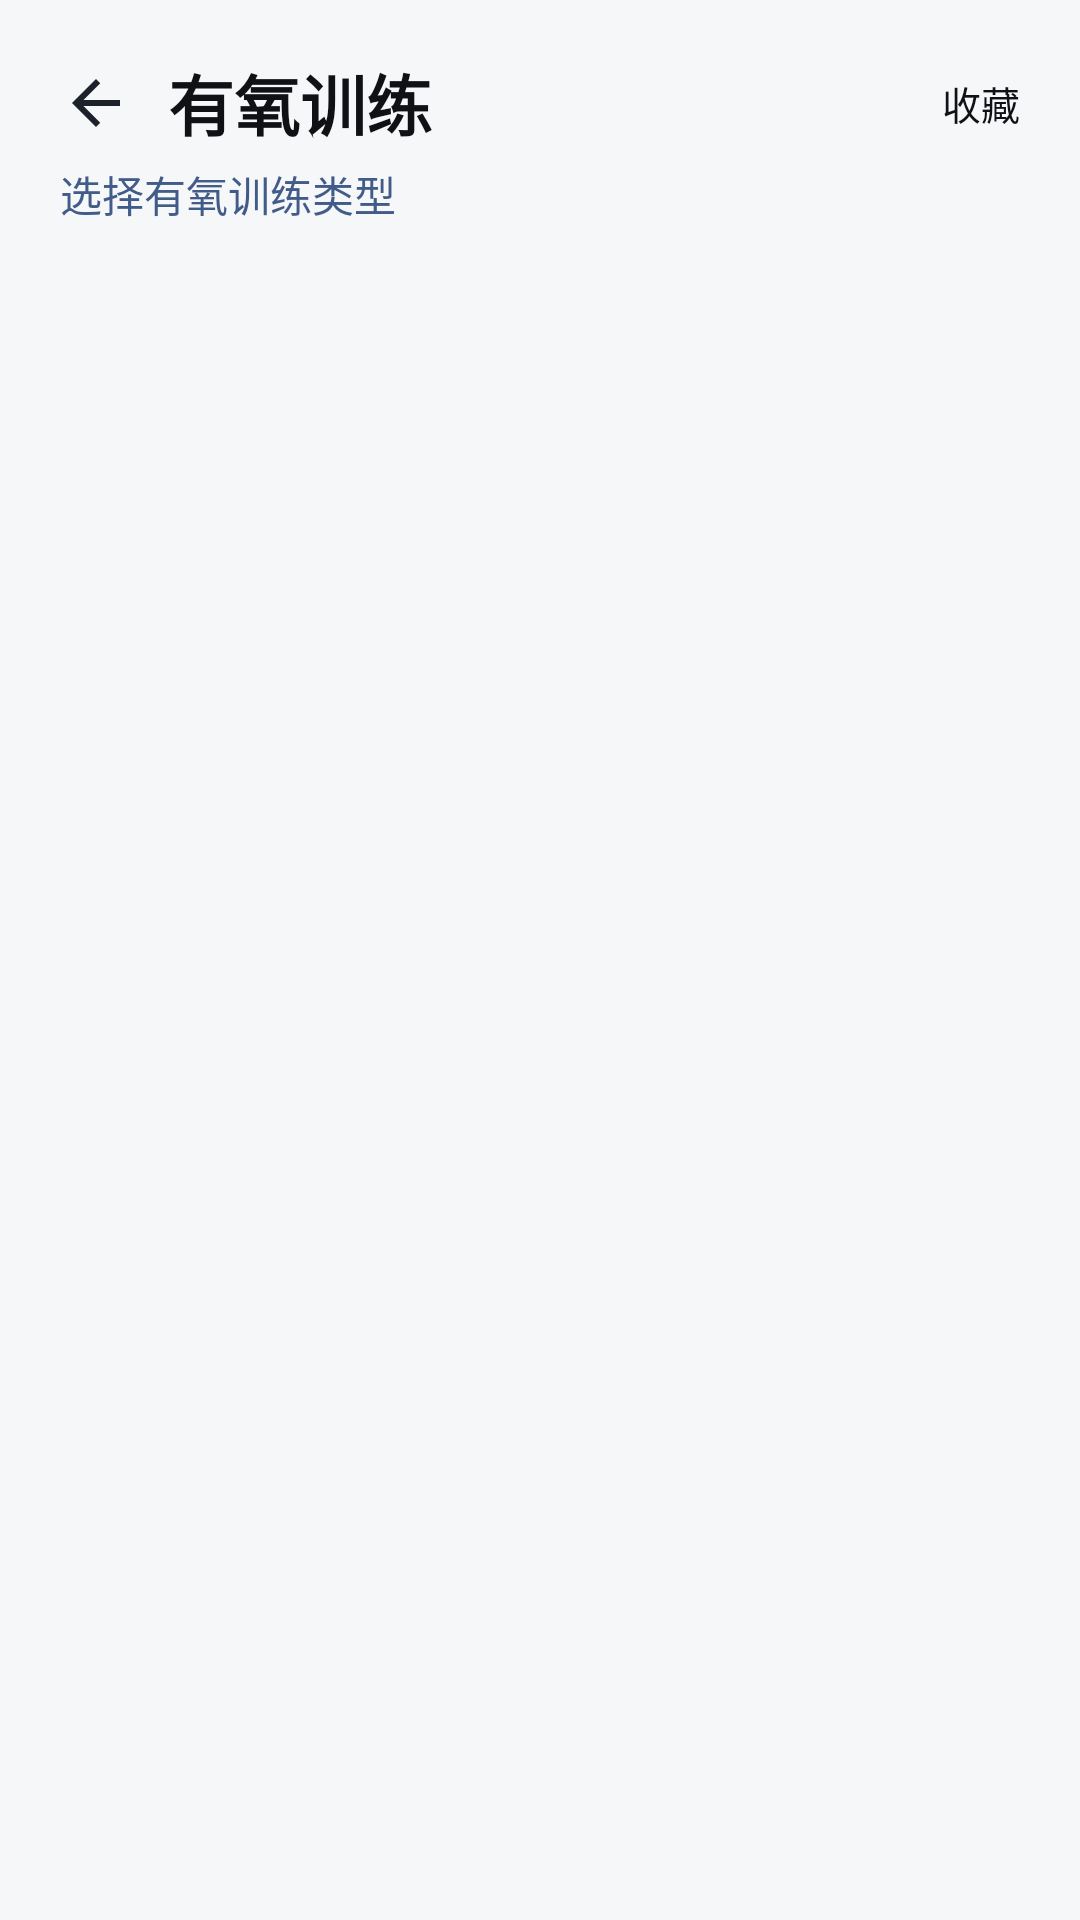

Locate icon controls on the screen. Image size 1080×1920, boxes as rect(x1, y1, x2, y2).
返回: rect(72, 79, 120, 127)
